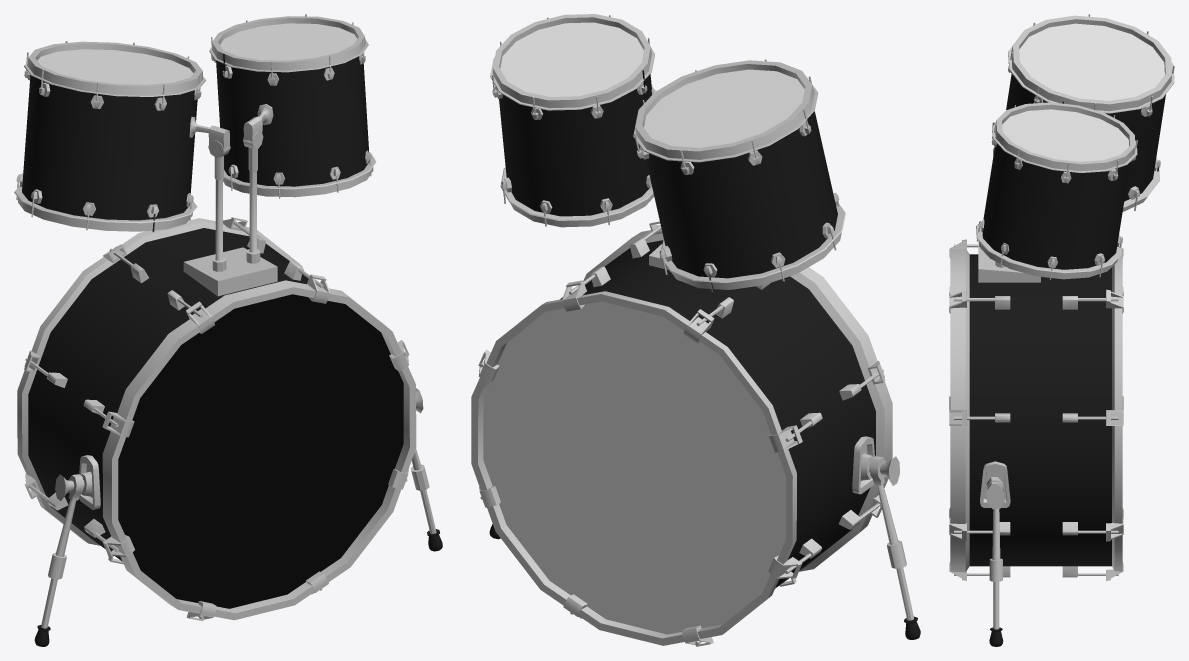
File: SM_Drum_4k.fbx
3 views of the same model, side by side, from view 1: azimuth 30°, elevation 25°; view 2: azimuth 150°, elevation 25°; view 3: azimuth 270°, elevation 25° (orthographic). The views are drawn at different scales.
Visible parts, largest first — view 1: Drum_4k; view 2: Drum_4k; view 3: Drum_4k.
Part boxes in pixels (x1,y1,x2,y2): Drum_4k: (14,14,442,646); Drum_4k: (471,14,920,646); Drum_4k: (949,14,1174,646).
Bounding box in the file's own units: 74.11 × 92.14 × 39.04.
1 material, 1 textured.
